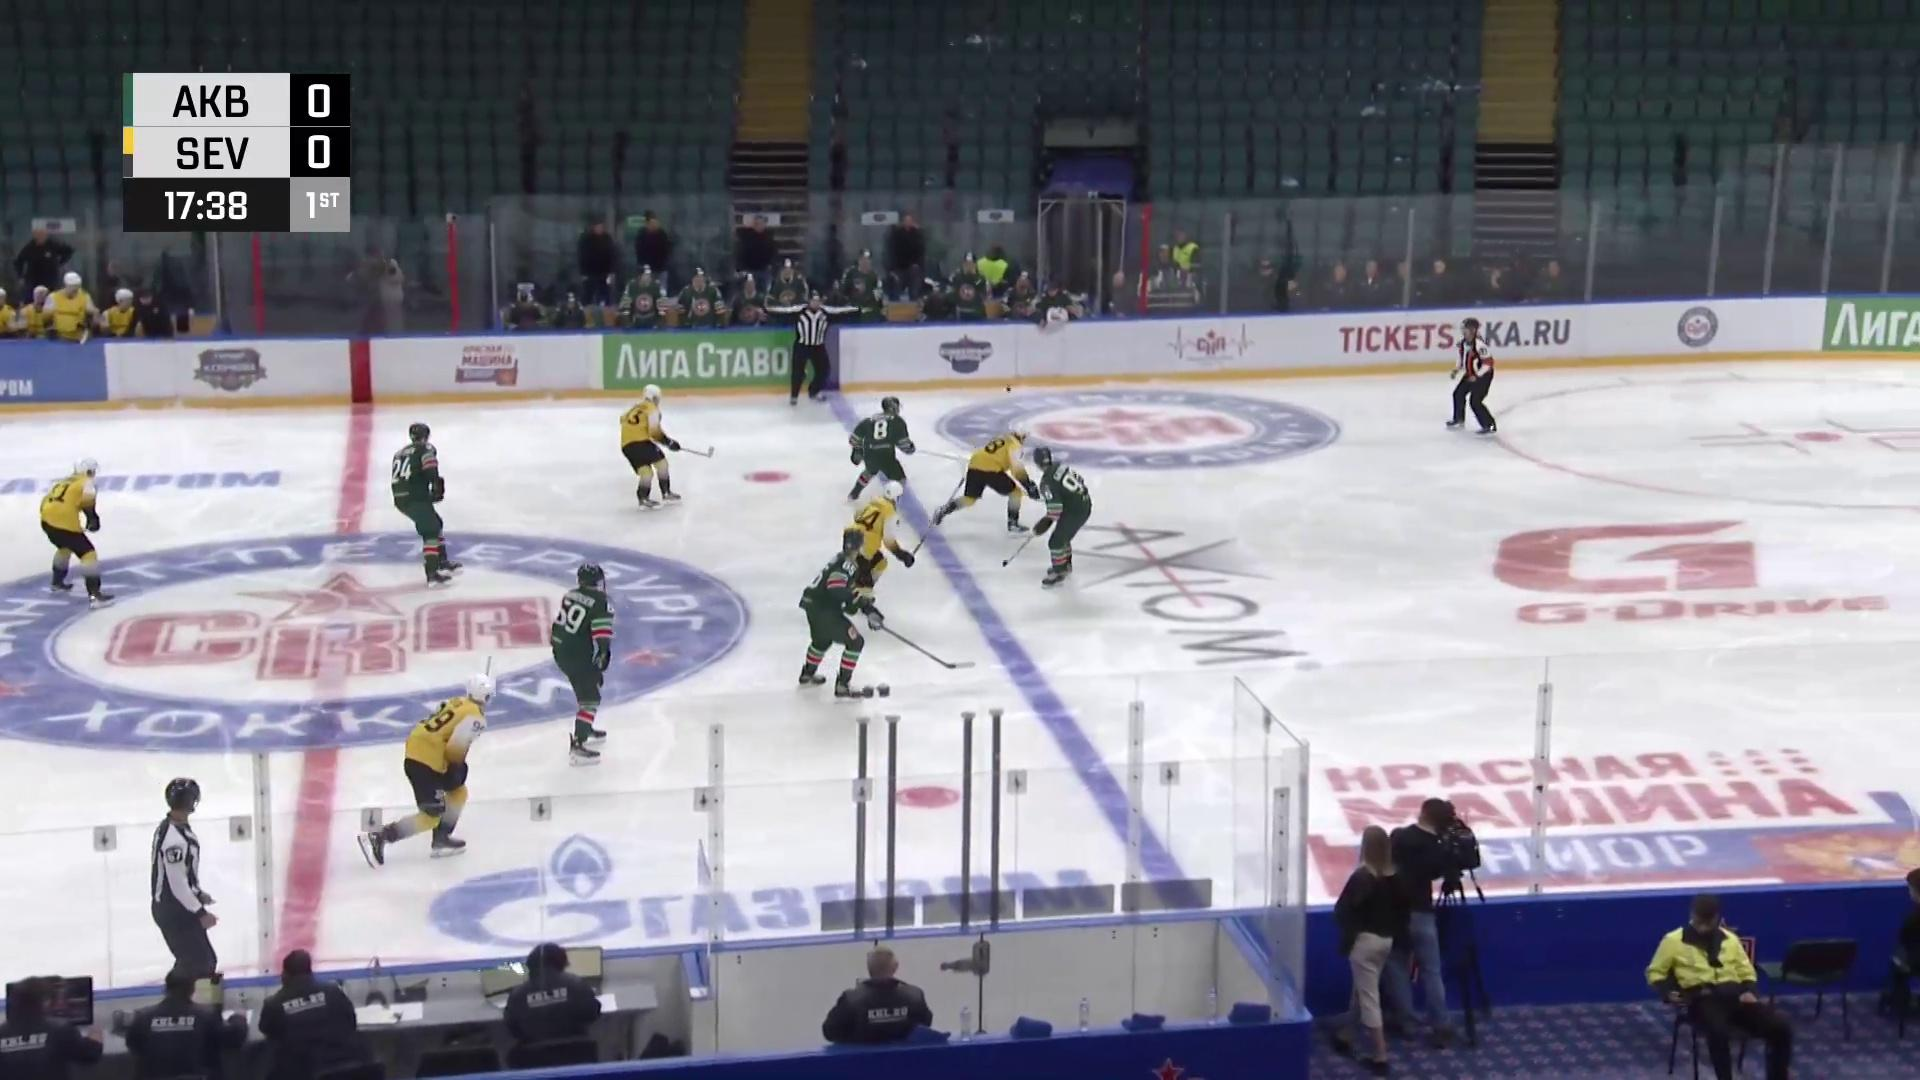ball: (1004, 385, 1013, 394)
